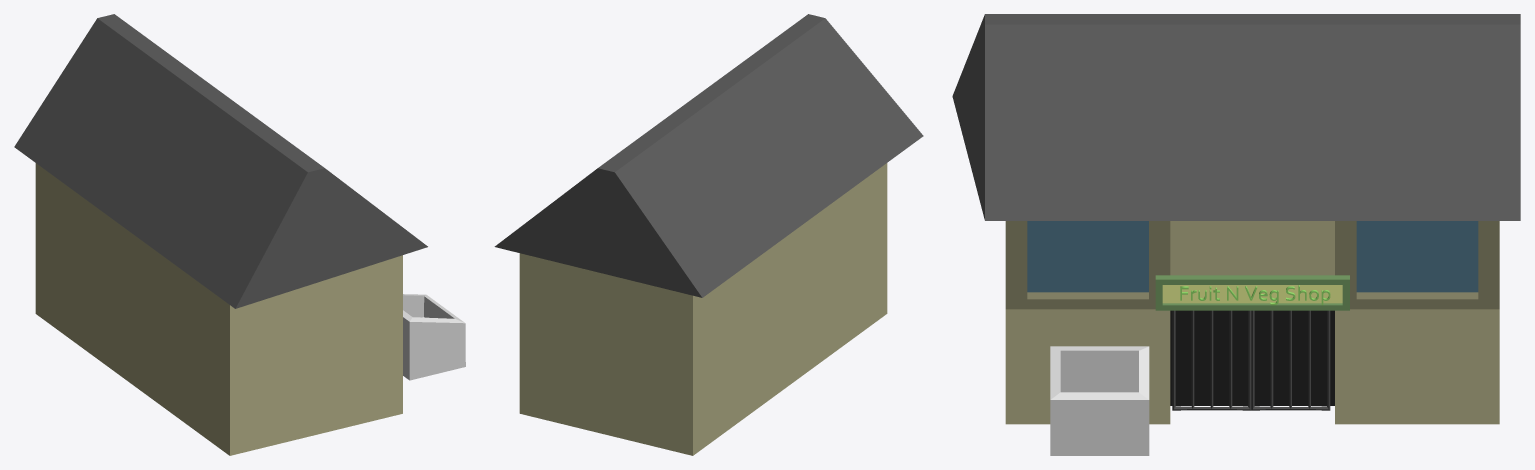
File: random building 2.fbx
The picture shows the model from 3 angles, left to right: view 1: azimuth 30°, elevation 25°; view 2: azimuth 150°, elevation 25°; view 3: azimuth 270°, elevation 25°; orthographic projection. The views are drawn at different scales.
Parts seen in each view (by area): view 1: Plane.003, Cube.001; view 2: Plane.003; view 3: Plane.003, Cube.001, Plane.001, Text.
Part boxes in pixels (box(x1,y1,x2,y2)): Plane.003: box(14, 14, 427, 455); Cube.001: box(403, 294, 465, 380); Plane.003: box(494, 14, 923, 455); Plane.003: box(952, 14, 1520, 424); Cube.001: box(1050, 346, 1149, 455); Plane.001: box(1172, 310, 1330, 410); Text: box(1180, 285, 1330, 305).
Size of the model in its own units: 311 by 301 by 447.
